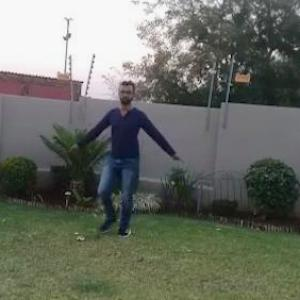land: (79, 90, 182, 226)
